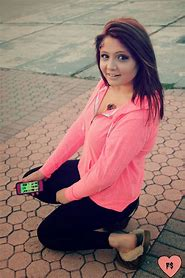person: (93, 15, 152, 88)
